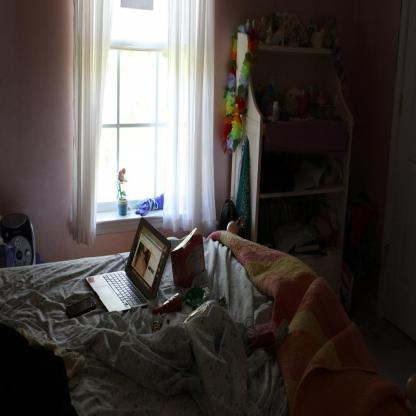board: (86, 216, 171, 313)
